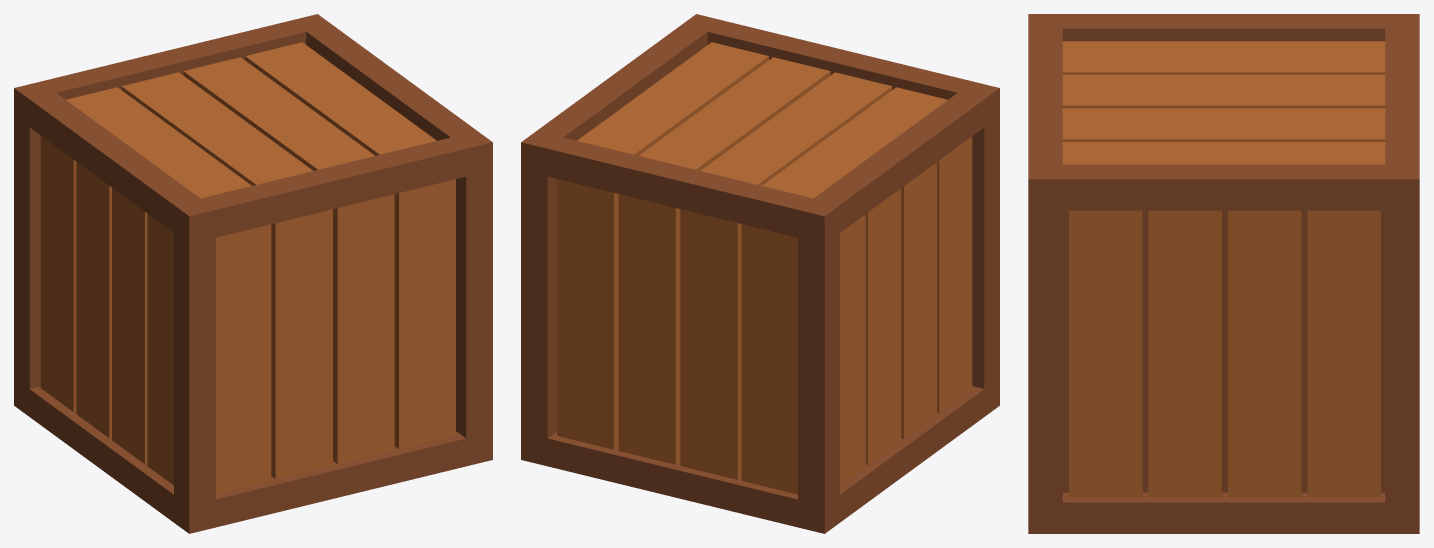
3 views of the same model, side by side, from view 1: azimuth 30°, elevation 25°; view 2: azimuth 150°, elevation 25°; view 3: azimuth 270°, elevation 25° (orthographic). The views are drawn at different scales.
Parts seen in each view (by area): view 1: Куб.031; view 2: Куб.031; view 3: Куб.031.
Part boxes in pixels (left/top/right/bottom): Куб.031: left=14, top=14, right=492, bottom=533; Куб.031: left=521, top=14, right=999, bottom=533; Куб.031: left=1028, top=14, right=1419, bottom=533.
Bounding box in the file's own units: 99 × 99 × 99.
